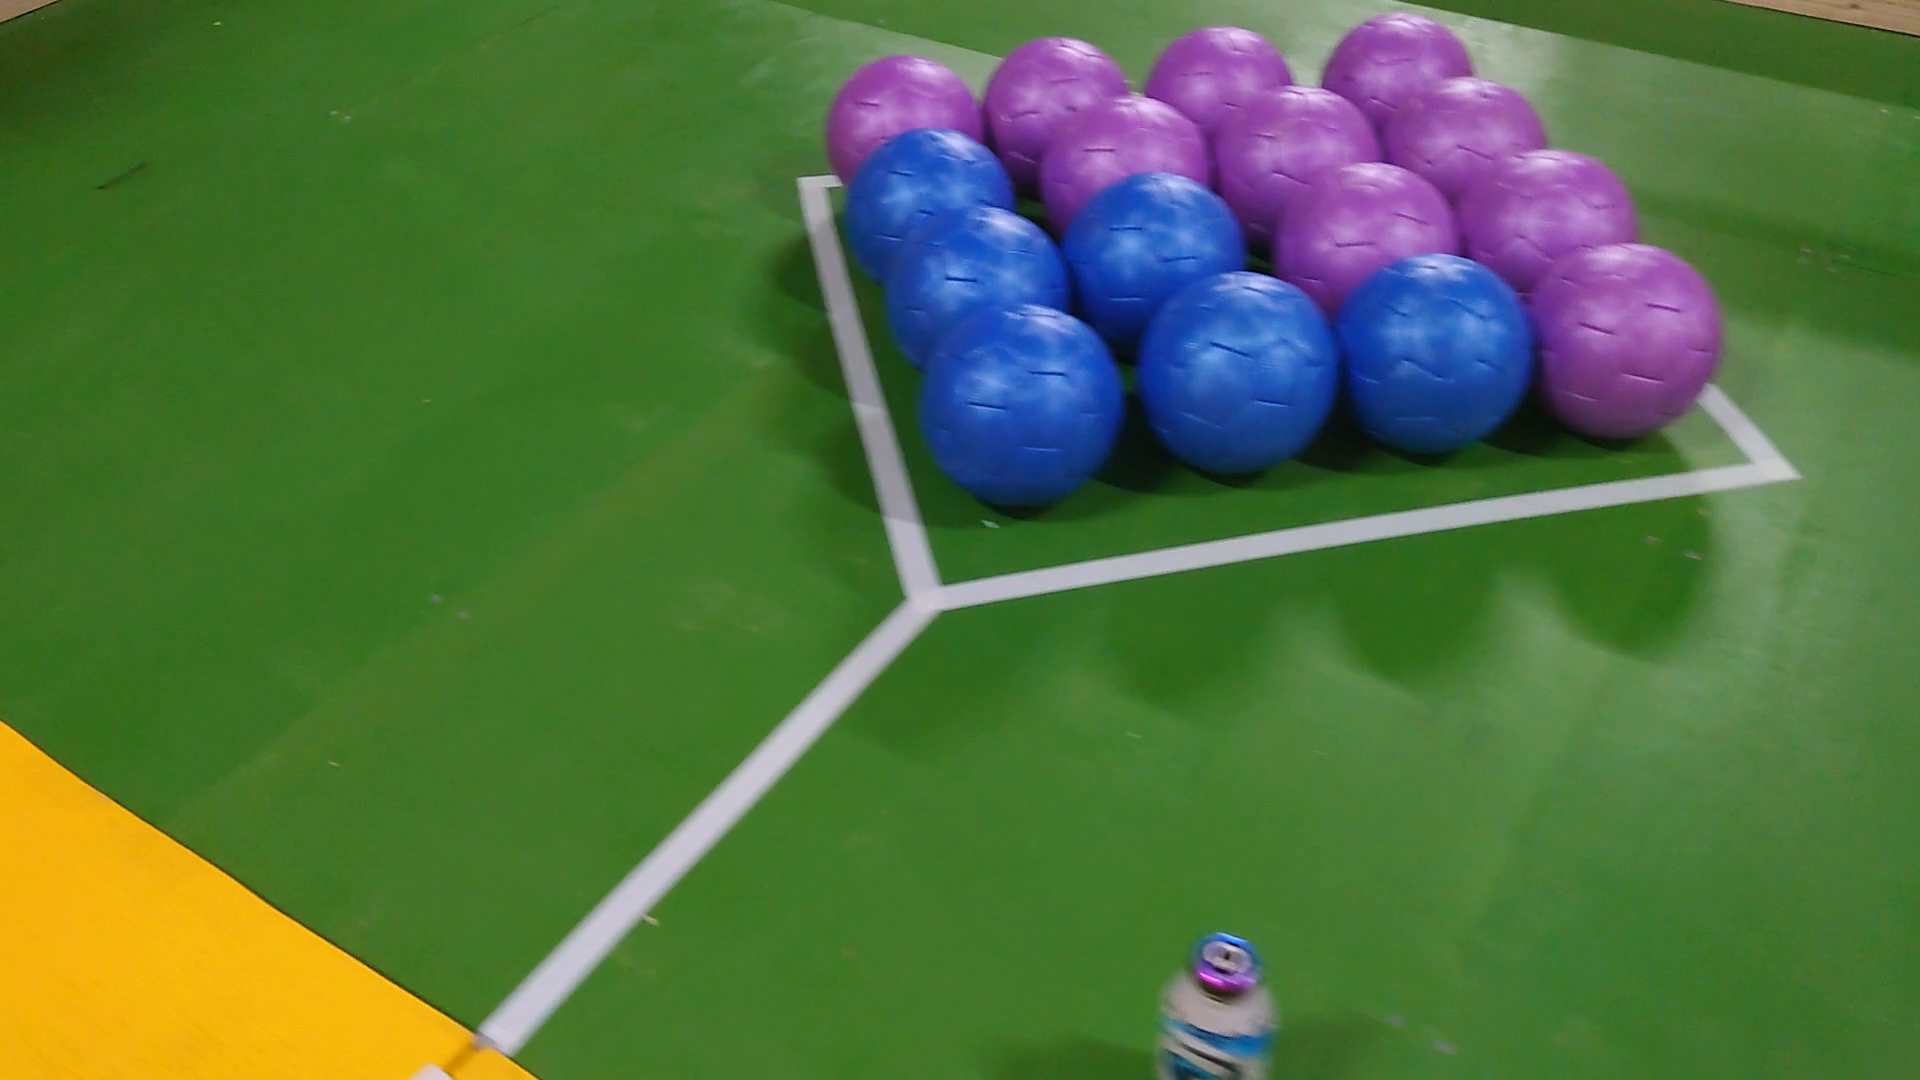blue: (920, 297, 1117, 513), (1139, 274, 1336, 480), (1336, 255, 1531, 458), (885, 206, 1068, 340), (856, 124, 1019, 268), (1062, 170, 1244, 297)
purple: (1528, 239, 1724, 444), (1270, 164, 1460, 287), (1456, 146, 1630, 274), (1208, 84, 1381, 208), (825, 49, 980, 179), (1035, 91, 1208, 203), (1385, 75, 1548, 177), (1323, 13, 1480, 117), (986, 33, 1130, 146), (1146, 29, 1300, 115)
